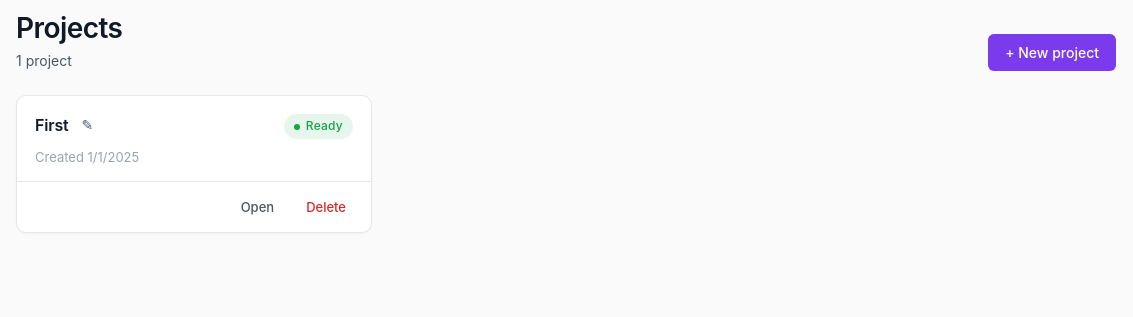
Scenario: ProjectListPage rename — duplicate (Requirements 2.3, 3.2, 3.3) › renders a TitleApiError(title_duplicate) inline and keeps the input open with the user's draft
Check: the heading "First" is shown, box [35,114,69,137]
Click the button named "Rename project".
click(87, 126)  # box [75,116,100,136]
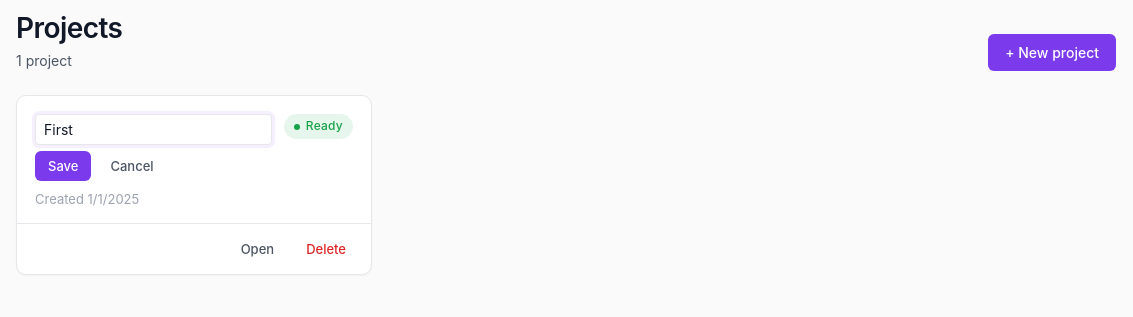
Replace the text in the field named "Project title" with "Dup" at (153, 130), box [35,114,272,145]
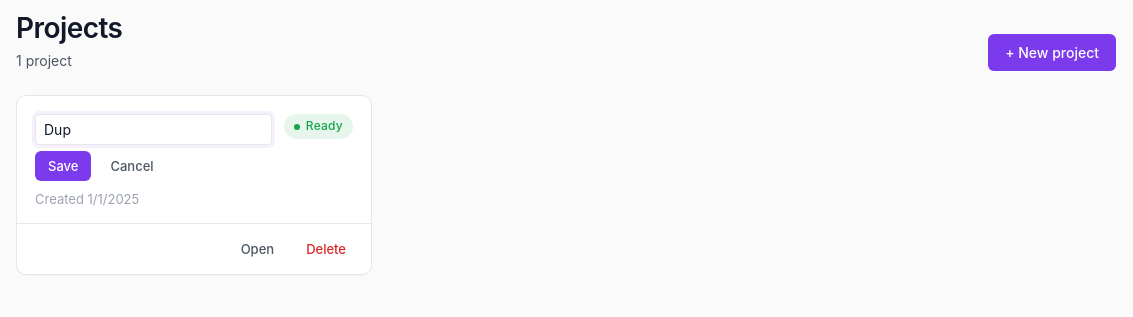
Click the button "Save".
click(63, 166)  # box [35,151,91,181]
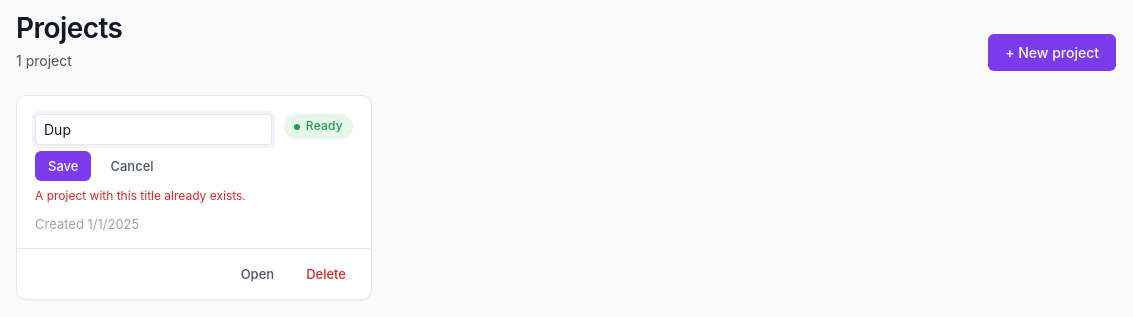
Check: the text "A project with this title already exists." is shown, box [35,187,272,206]
Press Escape in the field named "Project title", box [35,114,272,145]
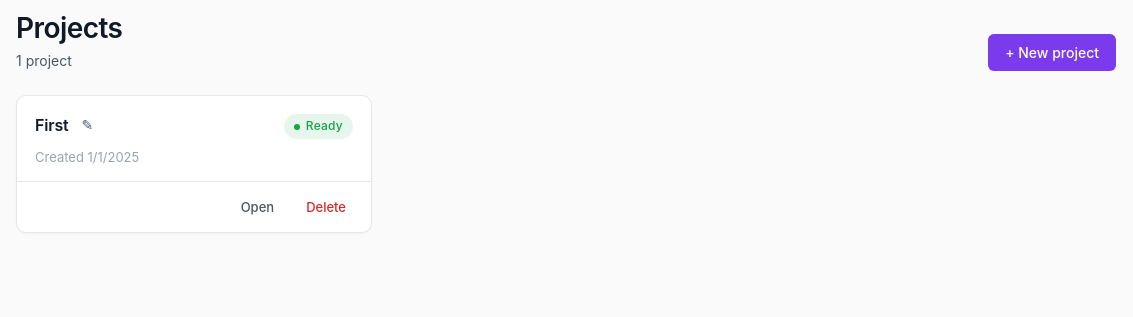
Check: the heading "First" is shown, box [35,114,69,137]
